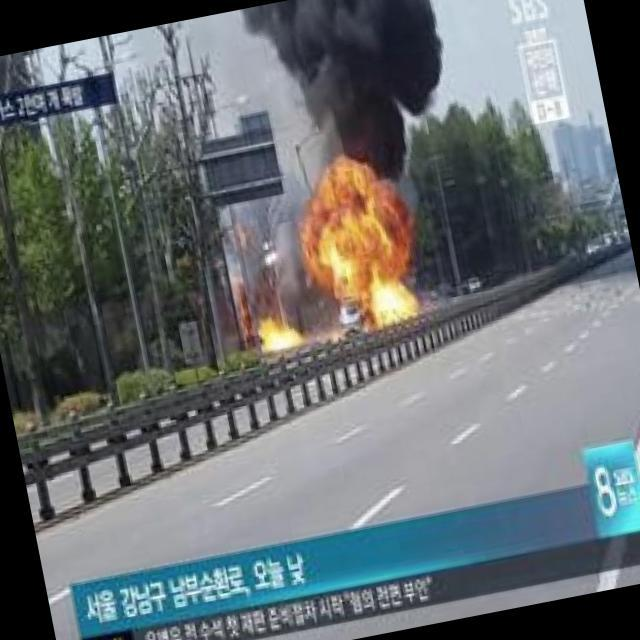Fire: (301, 199, 420, 296), (312, 162, 383, 215), (362, 281, 428, 327), (261, 314, 309, 354)
